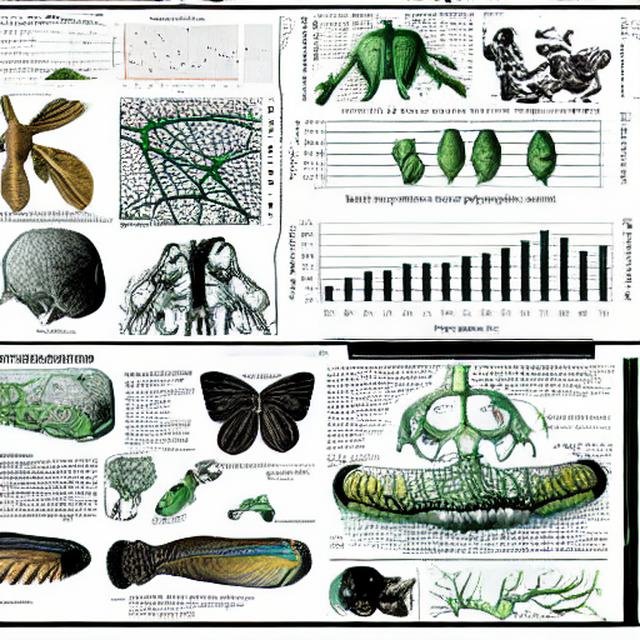Graph: (285, 190, 617, 336), (108, 15, 243, 95)
